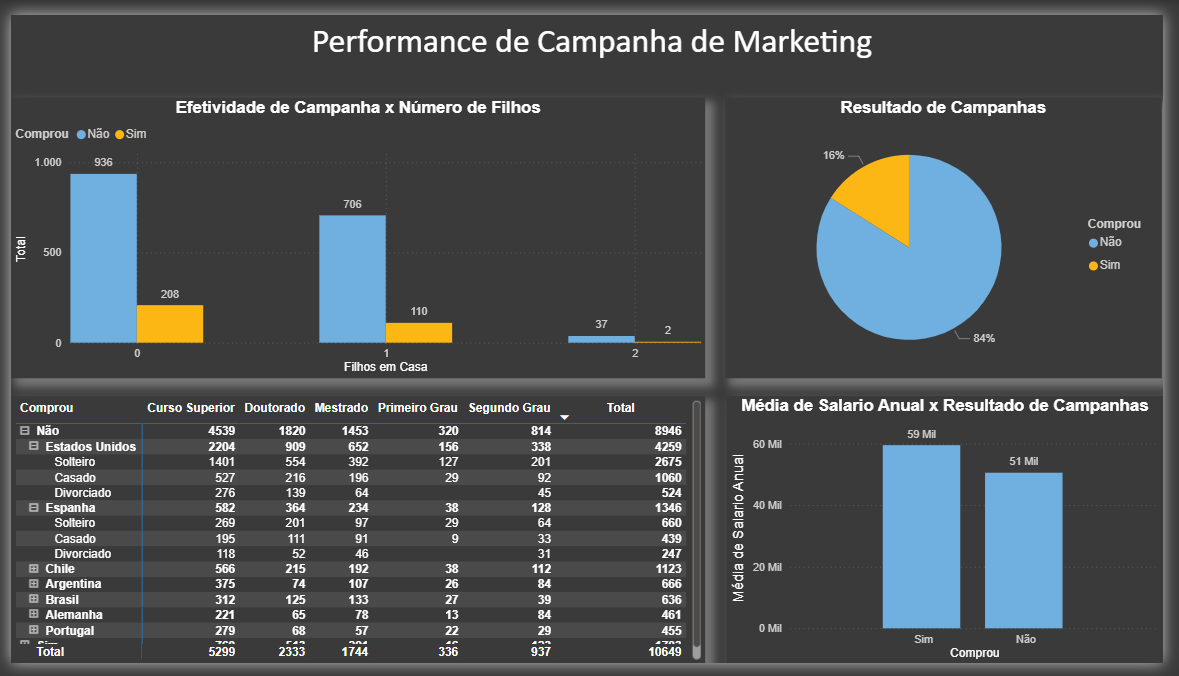

The dashboard page shown, as its layout file describes it:
{"tool":"powerbi","page":{"name":"Visão Campanha","canvas":[1280,720],"ordinal":2},"visuals":[{"type":"textbox","box":[9.5,0,1270.9,73.2],"z":0},{"type":"pieChart","title":"Resultado de Campanhas","fields":{"Category":["DadosMarketing.Comprou"],"Y":["CountNonNull(DadosMarketing.ID)"]},"box":[794.1,92.1,485.1,311.8],"z":1000},{"type":"clusteredColumnChart","title":"Média de Salario Anual x Resultado de Campanhas","fields":{"Category":["DadosMarketing.Comprou"],"Y":["Avg(DadosMarketing.Salario Anual)"]},"box":[795.3,423.1,485.1,297.4],"z":1001},{"type":"pivotTable","fields":{"Rows":["DadosMarketing.Comprou","DadosMarketing.Pais","DadosMarketing.Estado Civil"],"Values":["Sum(DadosMarketing.Numero Visitas WebSite Mes)"],"Columns":["DadosMarketing.Escolaridade"]},"box":[0,423.1,771.4,297.4],"z":1002},{"type":"clusteredColumnChart","title":"Efetividade de Campanha x Número de Filhos","fields":{"Category":["DadosMarketing.Filhos em Casa"],"Series":["DadosMarketing.Comprou"],"Y":["CountNonNull(DadosMarketing.Filhos em Casa)"]},"box":[0,92.3,771.4,311.8],"z":1003}]}

Visuals, with their boxes in screenshot pixels (x1, y1, x2, y2), scaled from the page's 1280x720 canvas onto the 1179x676 screenshot:
textbox: [x1=9, y1=0, x2=1178, y2=69]
"Resultado de Campanhas" pieChart: [x1=731, y1=86, x2=1178, y2=379]
"Média de Salario Anual x Resultado de Campanhas" clusteredColumnChart: [x1=733, y1=397, x2=1178, y2=675]
pivotTable - DadosMarketing.Comprou x DadosMarketing.Pais: [x1=0, y1=397, x2=711, y2=675]
"Efetividade de Campanha x Número de Filhos" clusteredColumnChart: [x1=0, y1=87, x2=711, y2=379]
